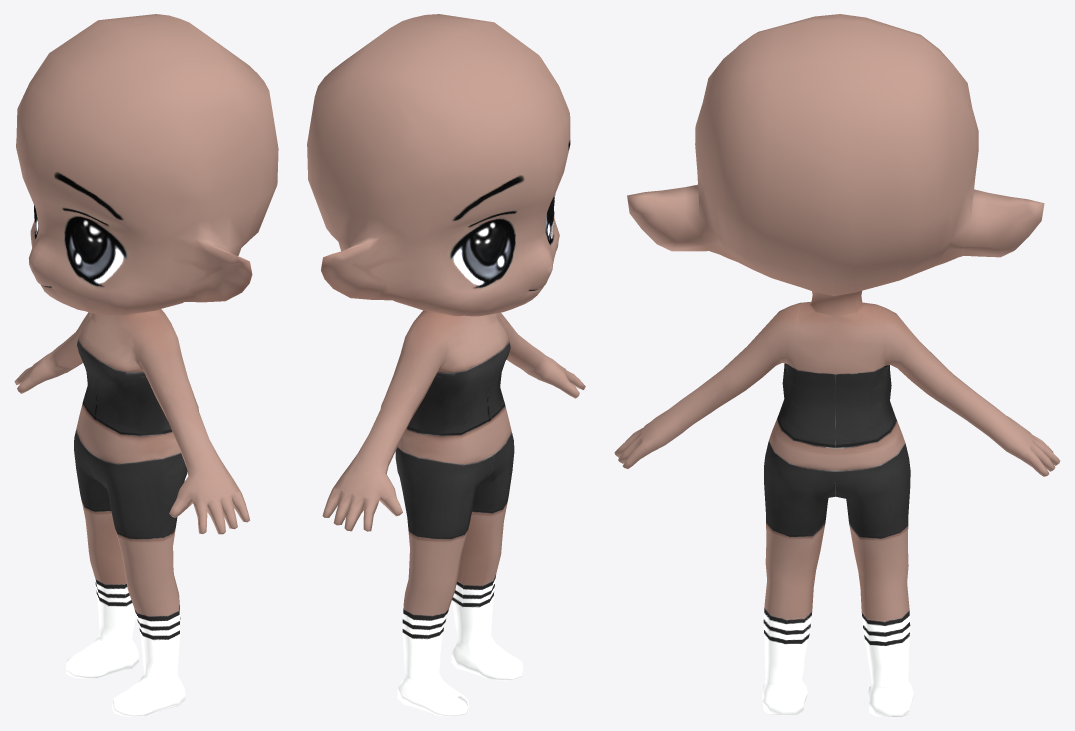
The model's file is miilady_body_tangrey.gltf.
3 views of the same model, side by side, from view 1: azimuth 30°, elevation 25°; view 2: azimuth 150°, elevation 25°; view 3: azimuth 270°, elevation 25° (orthographic). The views are drawn at different scales.
Visible parts, largest first — view 1: Milady_model.001; view 2: Milady_model.001; view 3: Milady_model.001.
Boxes of the visible parts, x1,y1,x2,y2 form: Milady_model.001: (14, 14, 278, 716); Milady_model.001: (307, 14, 585, 716); Milady_model.001: (614, 14, 1060, 716).
Size of the model in its own units: 0.5614 by 1.52 by 0.8957.
Materials: 1 (1 with a texture image).
